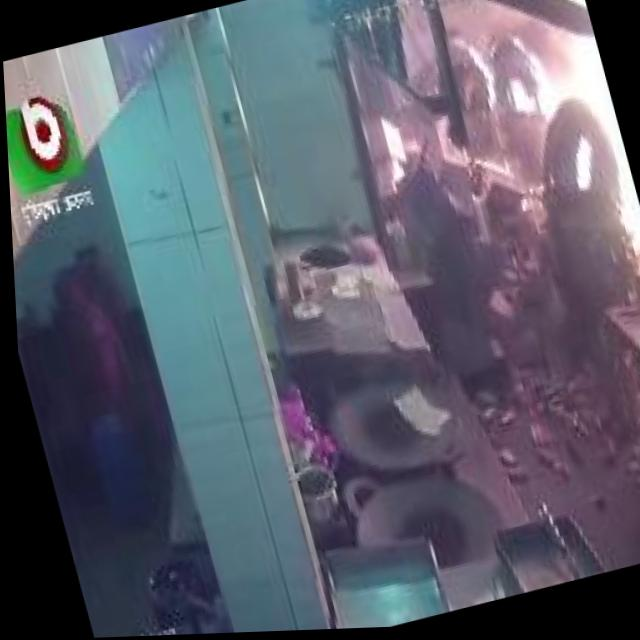fire: (480, 0, 640, 280)
